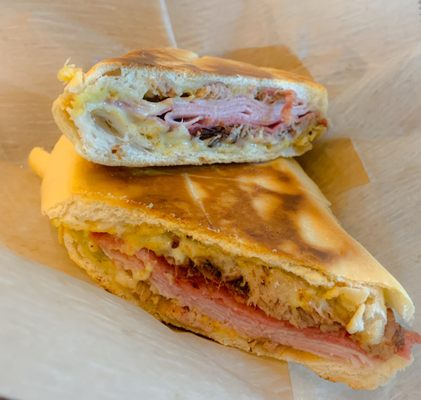soup: (27, 61, 408, 373)
